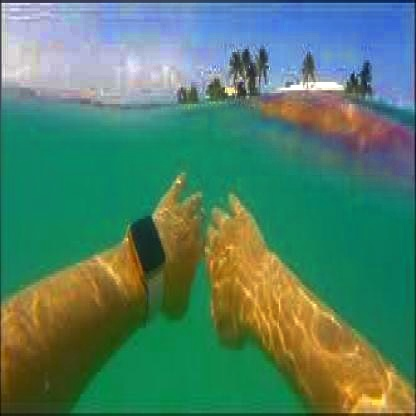electronics: (128, 219, 167, 334)
